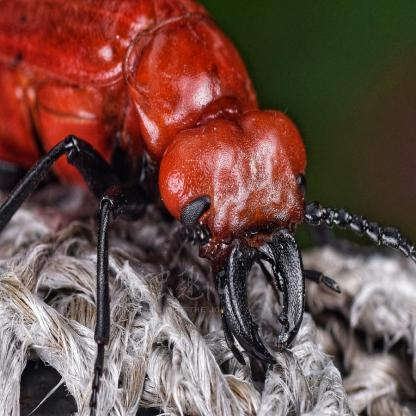beetle: (3, 1, 416, 393)
